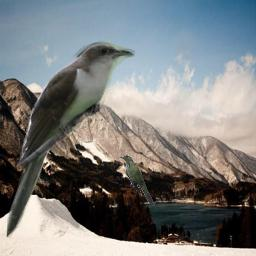Cuckoo: (0, 40, 135, 241), (120, 155, 156, 206)
